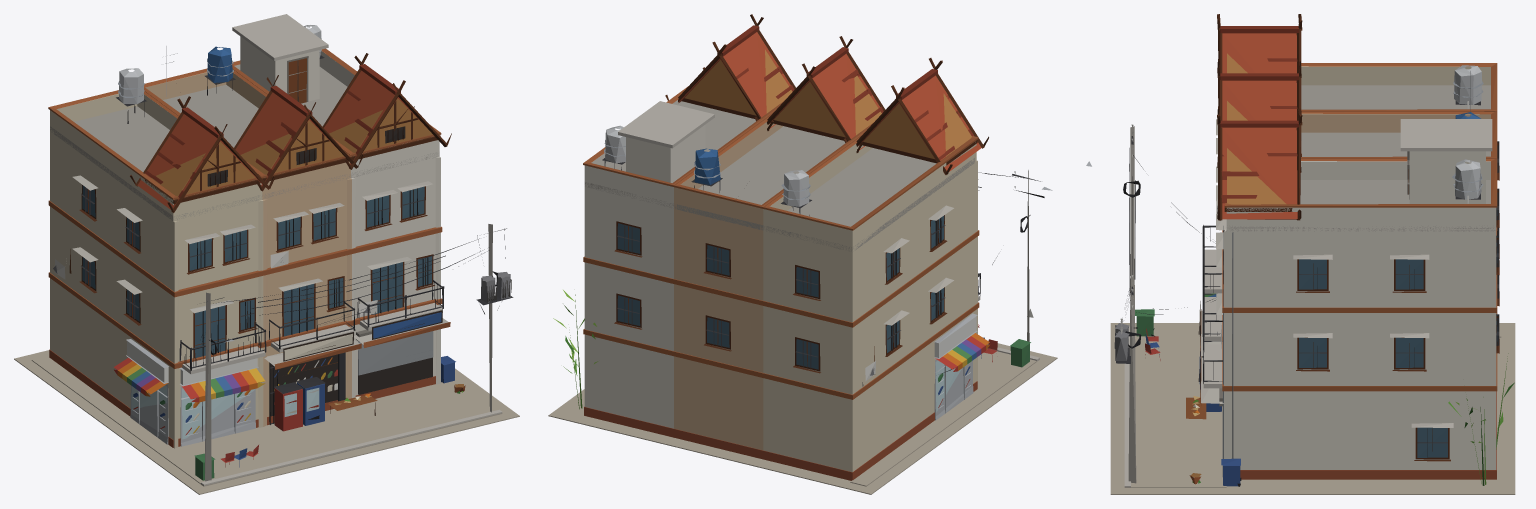
File: shop_3.glb
3 renders of one model, left to right at view 1: azimuth 30°, elevation 25°; view 2: azimuth 150°, elevation 25°; view 3: azimuth 270°, elevation 25°, orthographic. The views are drawn at different scales.
Visible parts, largest first — view 1: body, windows; view 2: body, windows; view 3: body, windows.
Boxes of the visible parts, <box> form: body: <box>14,14,519,494</box>; windows: <box>82,126,432,416</box>; body: <box>548,14,1057,494</box>; windows: <box>617,215,944,369</box>; body: <box>1086,14,1515,494</box>; windows: <box>1299,210,1497,457</box>.
Bounding box in the file's own units: 16.46 × 15.23 × 17.14.
